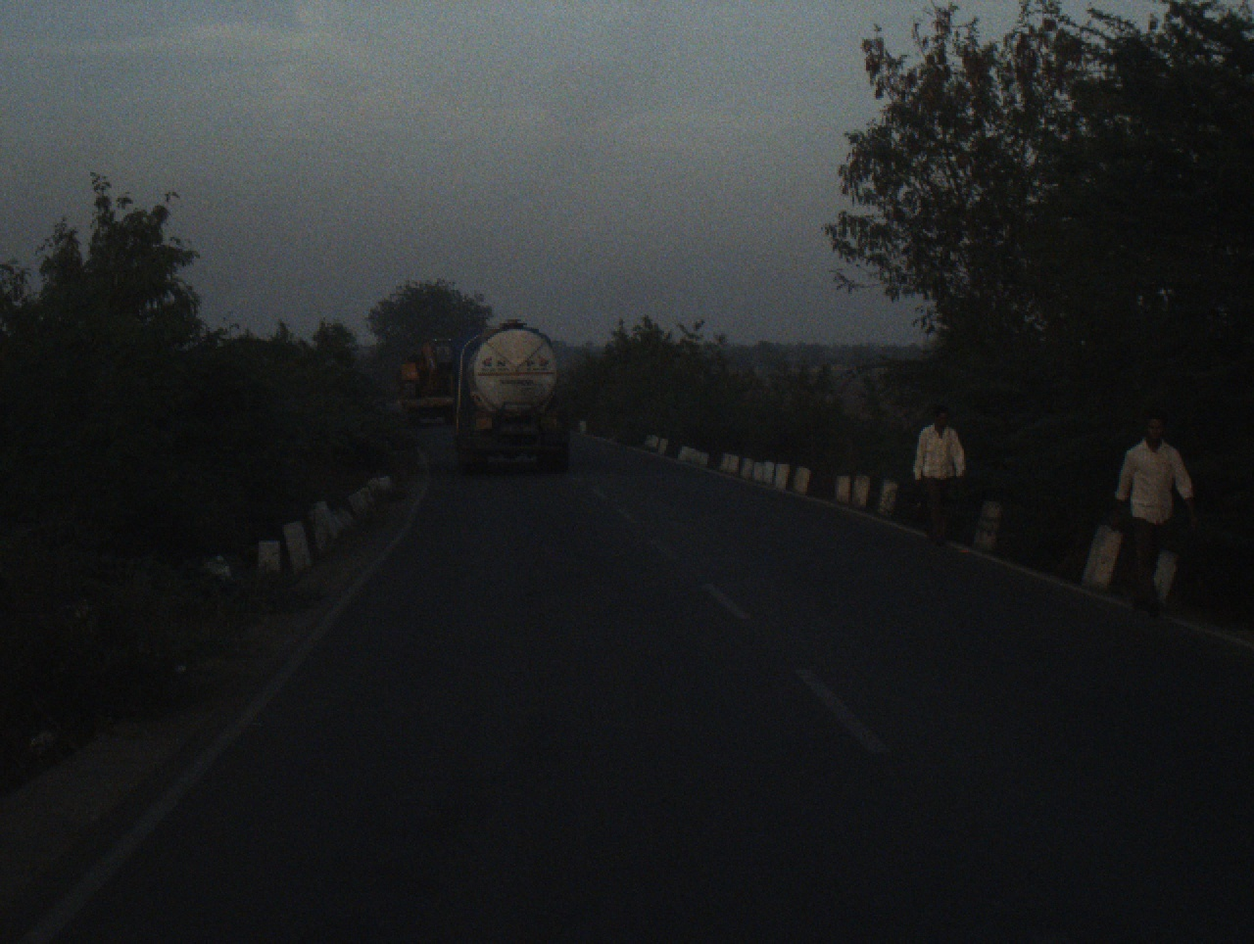person: (1100, 404, 1198, 617), (916, 405, 973, 542)
truck: (451, 316, 570, 476)
vehicle fallback: (385, 333, 465, 427)
